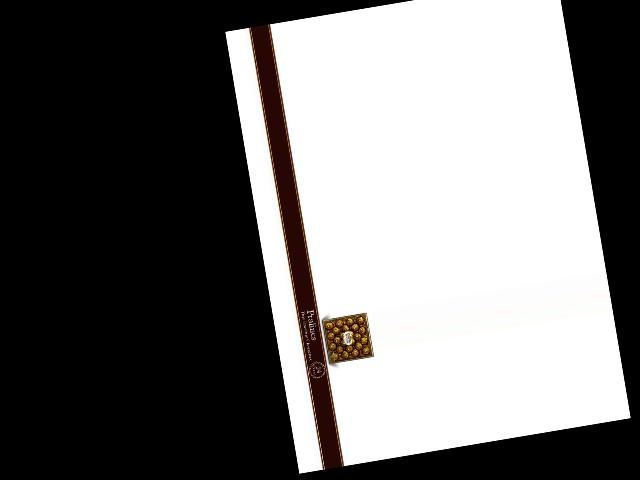chocolate: (319, 310, 377, 367)
